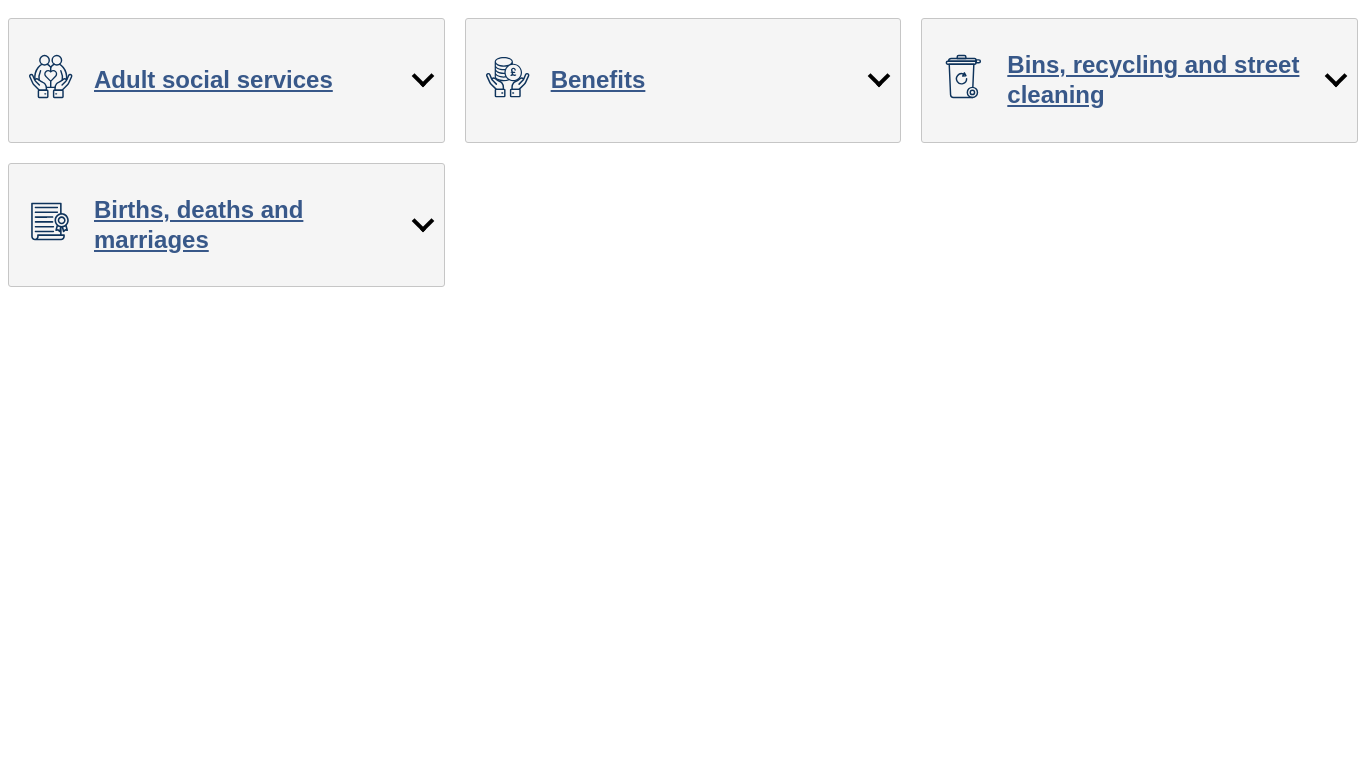
it: Test Component › should show another services quicklinks when service is clicked
The image size is (1366, 768).
Click the button "Adult social services": (226, 80) [8, 18, 445, 142]
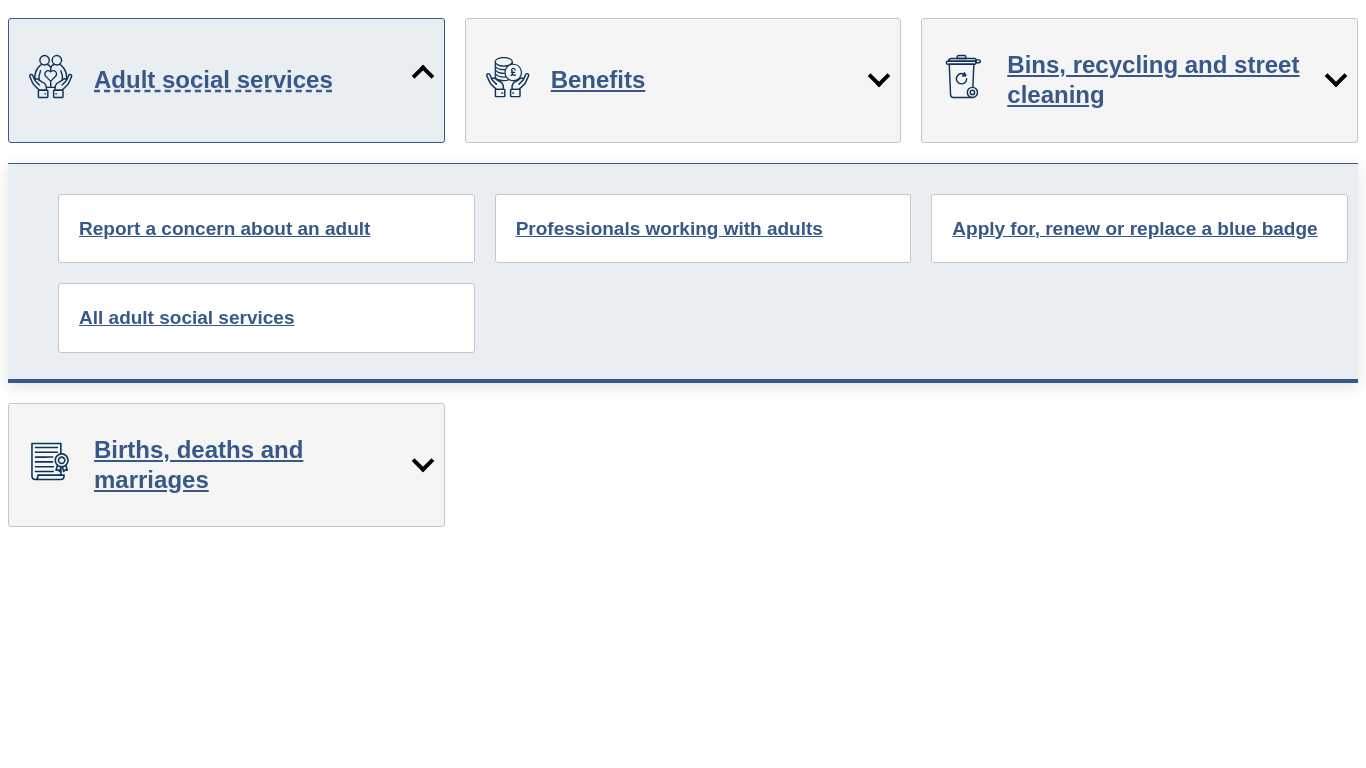
Expected: the text "Apply for council tax reduction" is not shown
Expected: the link "Report a concern about an adult" is shown, [58, 194, 475, 263]
Click the button "Benefits": (513, 76) [465, 18, 901, 142]
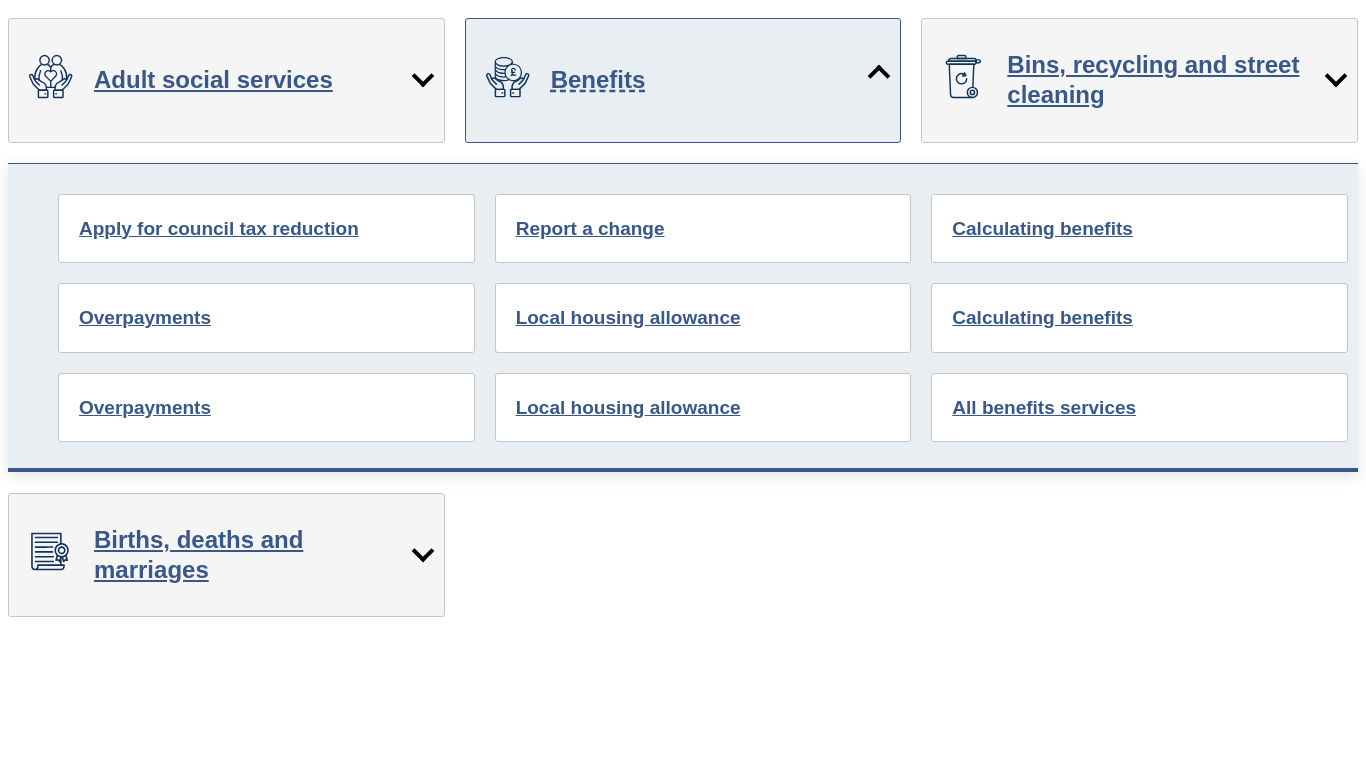
Expected: the link "Report a concern about an adult" is gone
Expected: the link "Apply for council tax reduction" is shown, [58, 194, 475, 263]
